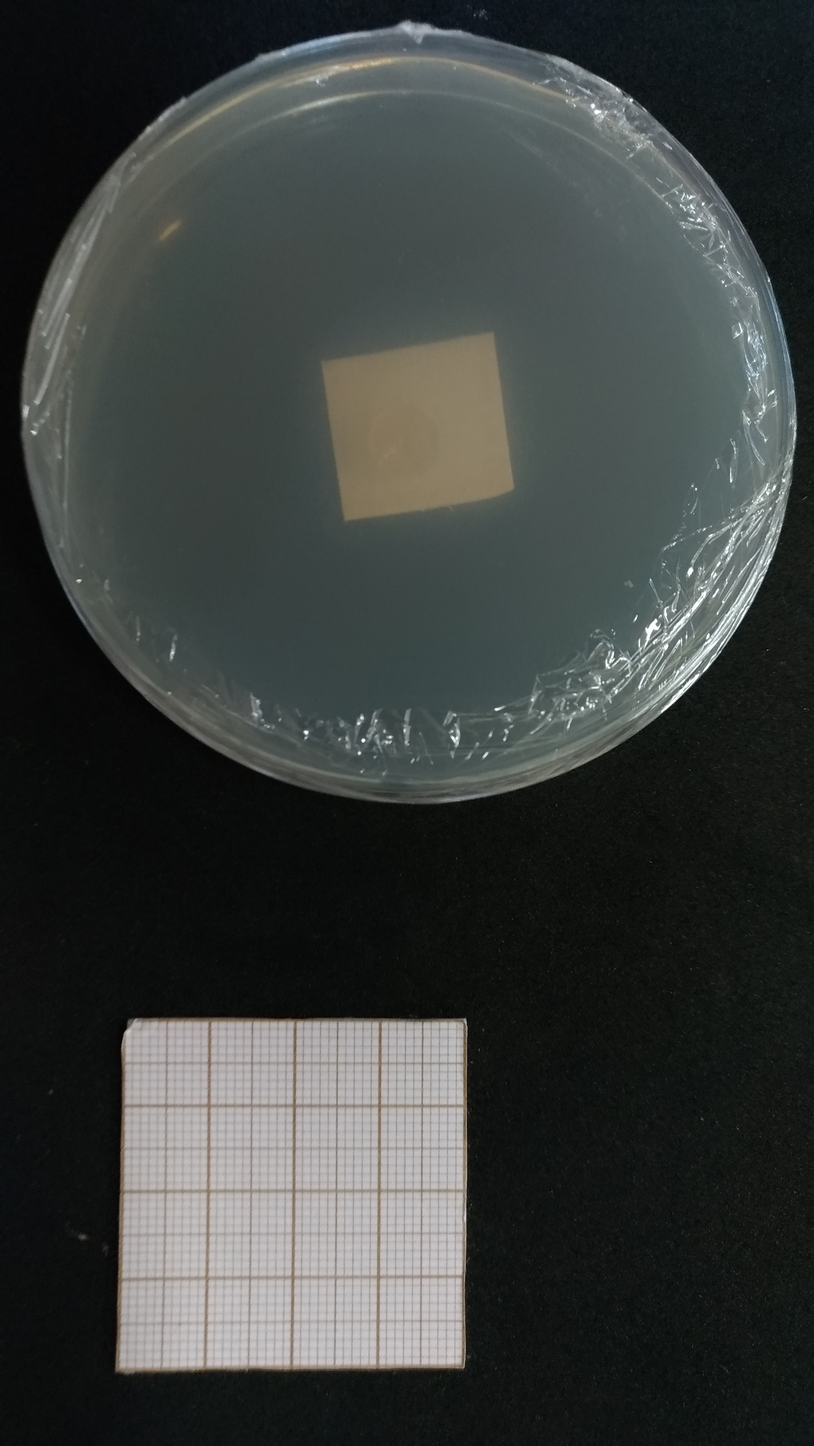escala: (116, 1019, 464, 1369)
fungo: (364, 405, 442, 478)
